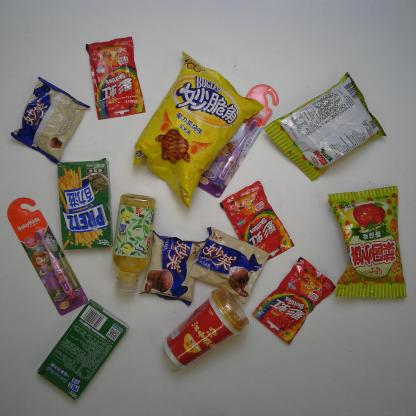Candy: (250, 252, 334, 359), (214, 187, 300, 266), (78, 35, 150, 127)
Dessert: (31, 291, 132, 409), (44, 154, 121, 264), (9, 69, 88, 169), (136, 226, 209, 307), (195, 220, 265, 304)
Drink: (114, 187, 161, 303)
Instant Drink: (155, 284, 250, 373)
Personal Hygiene: (198, 71, 288, 198), (8, 188, 90, 320)
Puffed Food: (116, 46, 264, 208), (257, 70, 382, 187), (321, 183, 408, 312)
